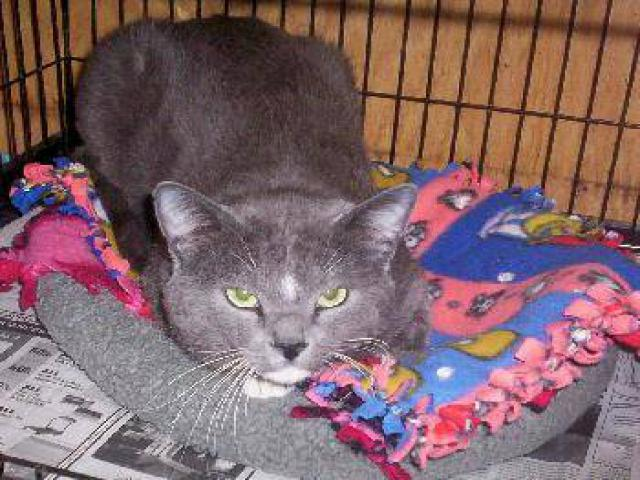cat: (94, 47, 423, 394)
